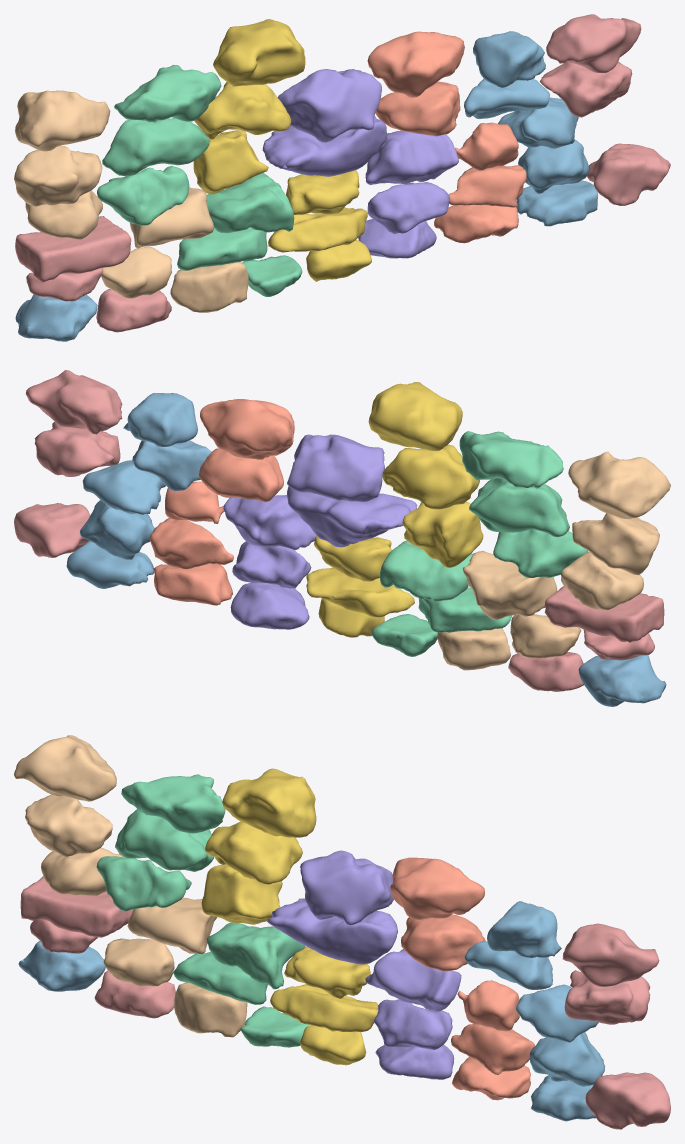
Rendered from frahan-rubble-wall.glb.
The picture shows the model from 3 angles, top to bottom: view 1: azimuth 30°, elevation 25°; view 2: azimuth 150°, elevation 25°; view 3: azimuth 330°, elevation 25°; orthographic projection.
Visible parts, largest first — view 1: stone_006, stone_000, stone_024, stone_013, stone_005, stone_002, stone_008, stone_009, stone_001, stone_003, stone_022, stone_020 (+28 smaller); view 2: stone_006, stone_000, stone_002, stone_013, stone_005, stone_007, stone_001, stone_008, stone_003, stone_023, stone_024, stone_014 (+28 smaller); view 3: stone_006, stone_013, stone_000, stone_002, stone_005, stone_001, stone_003, stone_007, stone_017, stone_022, stone_024, stone_008 (+28 smaller).
Boxes of the visible parts, x1,y1,x2,y2 form: stone_006: [277, 69, 381, 142]; stone_000: [213, 19, 305, 86]; stone_024: [15, 216, 131, 282]; stone_013: [262, 116, 386, 176]; stone_005: [367, 31, 464, 97]; stone_002: [15, 90, 110, 151]; stone_008: [102, 118, 209, 176]; stone_009: [14, 145, 102, 206]; stone_001: [114, 65, 221, 122]; stone_003: [546, 14, 641, 72]; stone_022: [206, 173, 294, 233]; stone_020: [365, 130, 458, 185]; stone_006: [287, 434, 384, 501]; stone_000: [368, 382, 462, 450]; stone_002: [568, 451, 670, 518]; stone_013: [287, 486, 417, 547]; stone_005: [200, 399, 294, 459]; stone_007: [382, 444, 479, 509]; stone_001: [459, 431, 563, 488]; stone_008: [469, 478, 569, 537]; stone_003: [25, 370, 122, 434]; stone_023: [462, 551, 557, 619]; stone_024: [544, 586, 664, 642]; stone_014: [402, 501, 483, 567]; stone_006: [300, 850, 393, 925]; stone_013: [267, 898, 397, 964]; stone_000: [222, 768, 316, 837]; stone_002: [14, 735, 116, 801]; stone_005: [390, 857, 484, 919]; stone_001: [121, 774, 225, 833]; stone_003: [562, 923, 659, 986]; stone_007: [205, 821, 302, 884]; stone_017: [585, 1072, 670, 1129]; stone_022: [206, 922, 304, 989]; stone_024: [20, 876, 133, 937]; stone_008: [115, 809, 213, 871].
Bounding box in the file's own units: 10.19 × 3.93 × 1.17.
